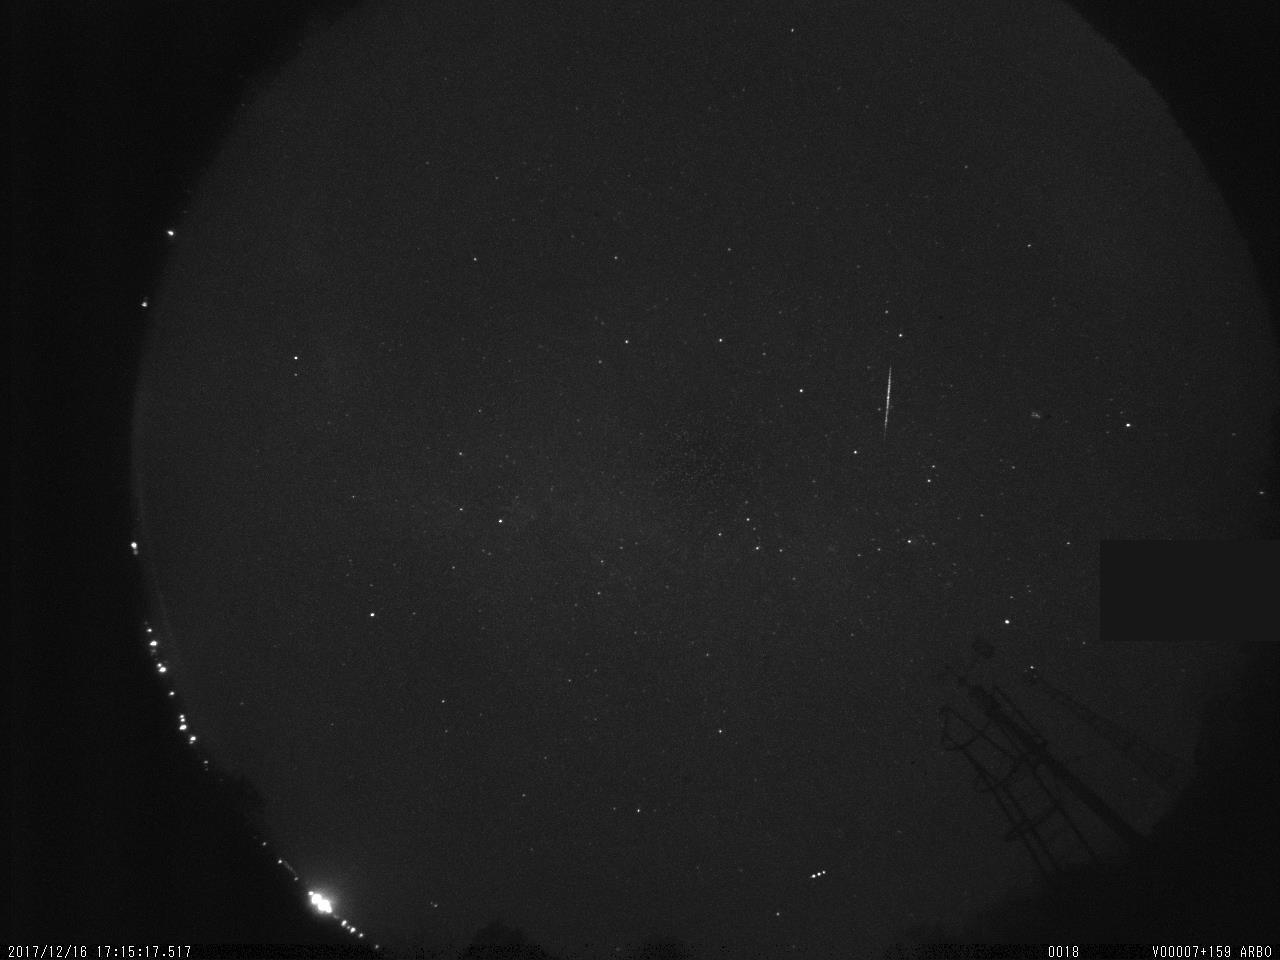meteor: (872, 357, 905, 452)
satelite: (803, 860, 834, 887)
